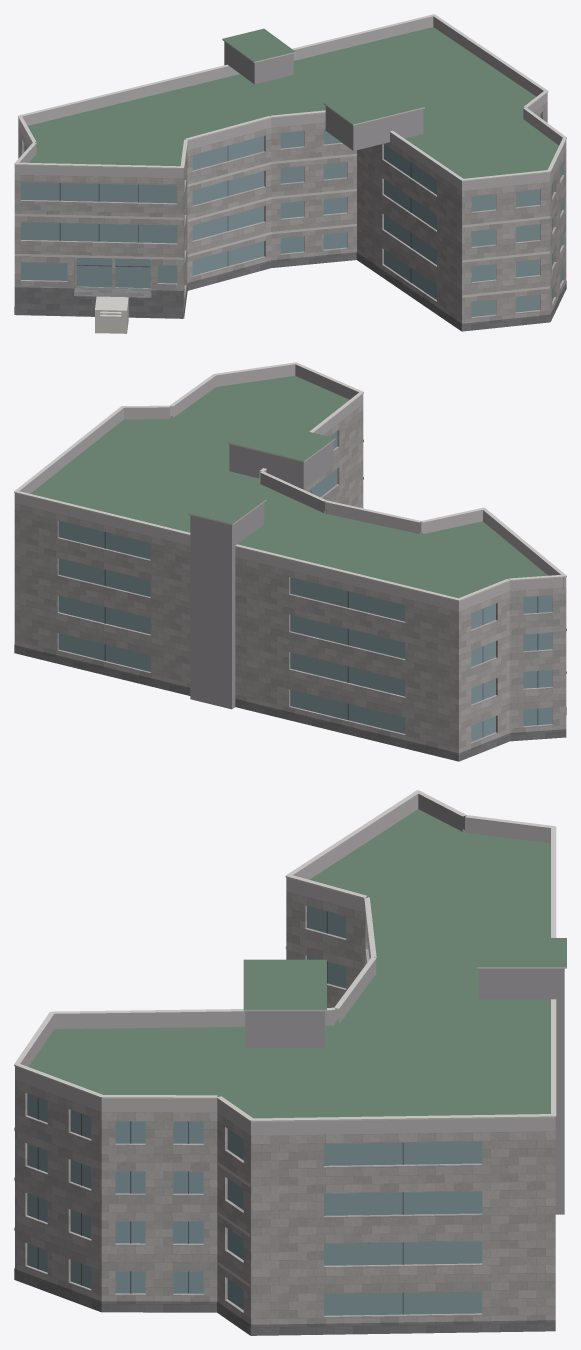
The picture shows the model from 3 angles, top to bottom: view 1: azimuth 30°, elevation 25°; view 2: azimuth 150°, elevation 25°; view 3: azimuth 270°, elevation 25°; orthographic projection. The views are drawn at different scales.
Visible parts, largest first — view 1: b52_1__wall, b52_1__roof, b52_1__glass, b52_1__parapet, b52_1__base, b52_1__trim, b52_1__wall2, b52_1__entranceStair, b52_1__frame; view 2: b52_1__wall, b52_1__roof, b52_1__glass, b52_1__parapet, b52_1__wall2, b52_1__trim, b52_1__base, b52_1__frame; view 3: b52_1__wall, b52_1__roof, b52_1__glass, b52_1__parapet, b52_1__trim, b52_1__wall2, b52_1__base, b52_1__frame.
Part boxes in pixels (bbox=[...]): b52_1__wall: bbox=[14, 102, 566, 330]; b52_1__roof: bbox=[16, 27, 558, 318]; b52_1__glass: bbox=[21, 113, 562, 316]; b52_1__parapet: bbox=[14, 16, 566, 191]; b52_1__base: bbox=[14, 252, 566, 331]; b52_1__trim: bbox=[14, 14, 566, 297]; b52_1__wall2: bbox=[224, 42, 423, 150]; b52_1__entranceStair: bbox=[95, 296, 128, 333]; b52_1__frame: bbox=[59, 146, 552, 300]; b52_1__wall: bbox=[14, 404, 566, 760]; b52_1__roof: bbox=[30, 376, 547, 598]; b52_1__glass: bbox=[58, 431, 552, 741]; b52_1__parapet: bbox=[14, 364, 566, 611]; b52_1__wall2: bbox=[190, 441, 333, 709]; b52_1__trim: bbox=[14, 362, 566, 673]; b52_1__base: bbox=[14, 644, 566, 761]; b52_1__frame: bbox=[104, 489, 538, 737]; b52_1__wall: bbox=[15, 891, 555, 1335]; b52_1__roof: bbox=[29, 809, 566, 1335]; b52_1__glass: bbox=[27, 906, 482, 1315]; b52_1__parapet: bbox=[15, 793, 555, 1135]; b52_1__trim: bbox=[14, 790, 566, 1286]; b52_1__wall2: bbox=[245, 968, 564, 1214]; b52_1__base: bbox=[14, 1268, 555, 1335]; b52_1__frame: bbox=[37, 911, 403, 1314].
Bounding box in the file's own units: 51.12 × 18.21 × 36.12.
10 materials, 2 textured.
